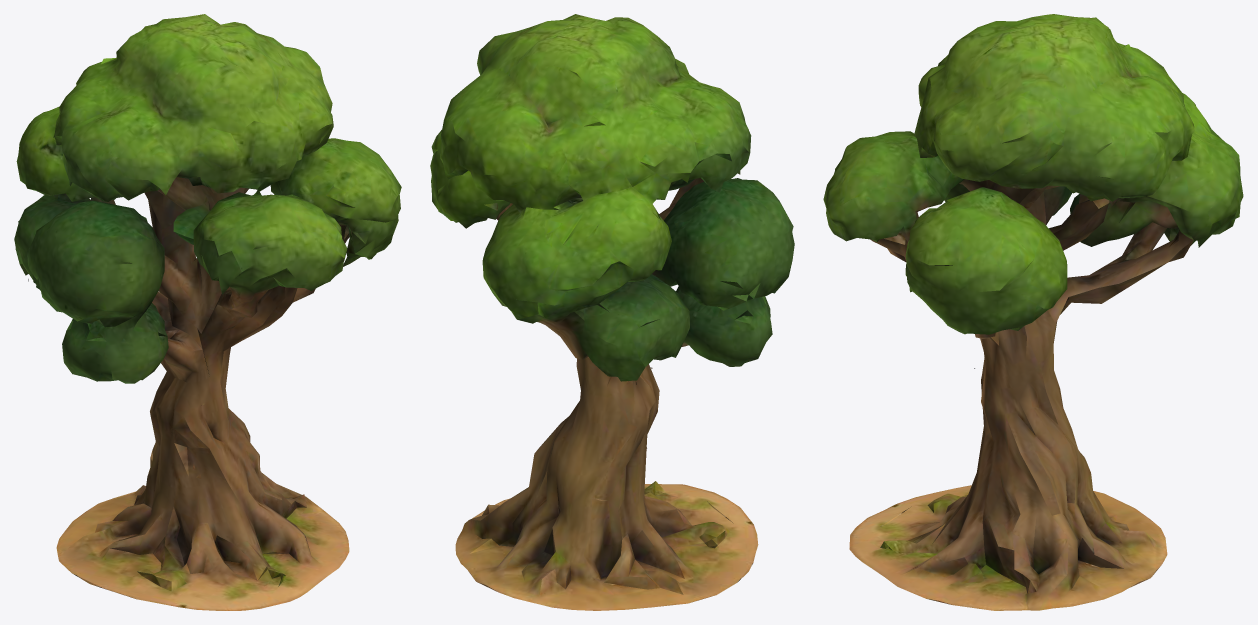
Rendered from tree_old_orange_disc_lod0.glb.
3 renders of one model, left to right at view 1: azimuth 30°, elevation 25°; view 2: azimuth 150°, elevation 25°; view 3: azimuth 270°, elevation 25°, orthographic. The views are drawn at different scales.
Parts seen in each view (by area): view 1: tree_old_orange_disc_lod0; view 2: tree_old_orange_disc_lod0; view 3: tree_old_orange_disc_lod0.
Part boxes in pixels (x1,y1,x2,y2): tree_old_orange_disc_lod0: (14, 14, 401, 610); tree_old_orange_disc_lod0: (430, 14, 794, 610); tree_old_orange_disc_lod0: (823, 14, 1243, 610).
Size of the model in its own units: 5.6 by 7.97 by 5.77.
Materials: 1 (1 with a texture image).
